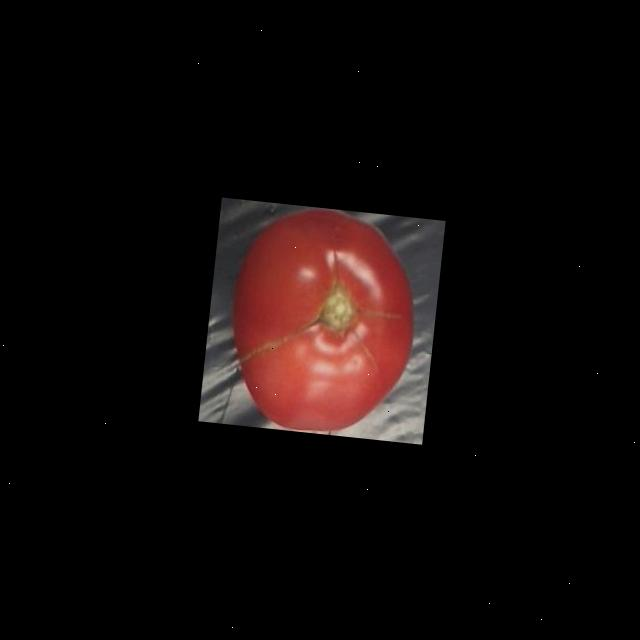tomato: (213, 198, 424, 442)
